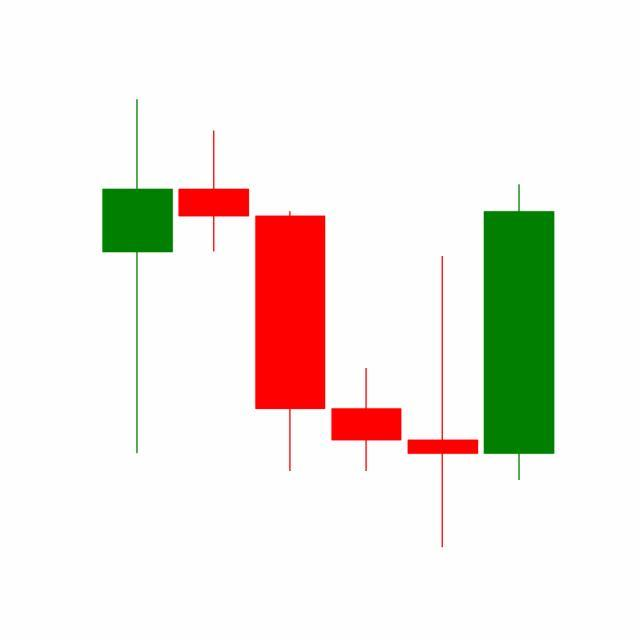Spinning Top: (404, 253, 482, 552)
